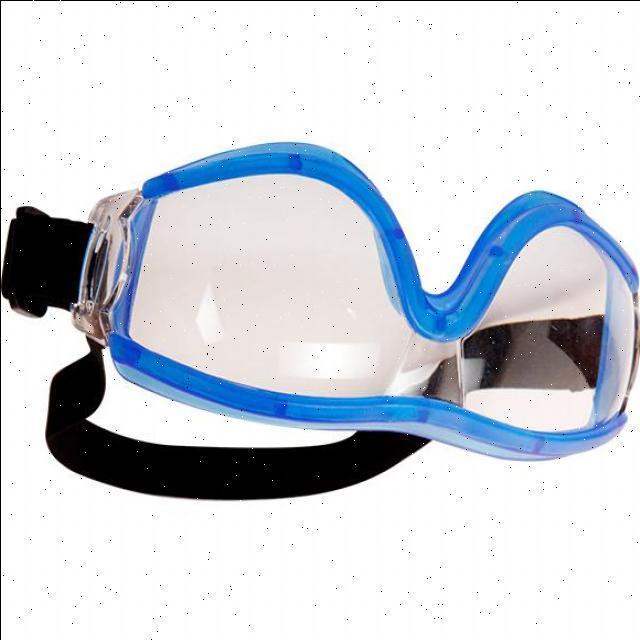Goggles: (1, 136, 640, 505)
